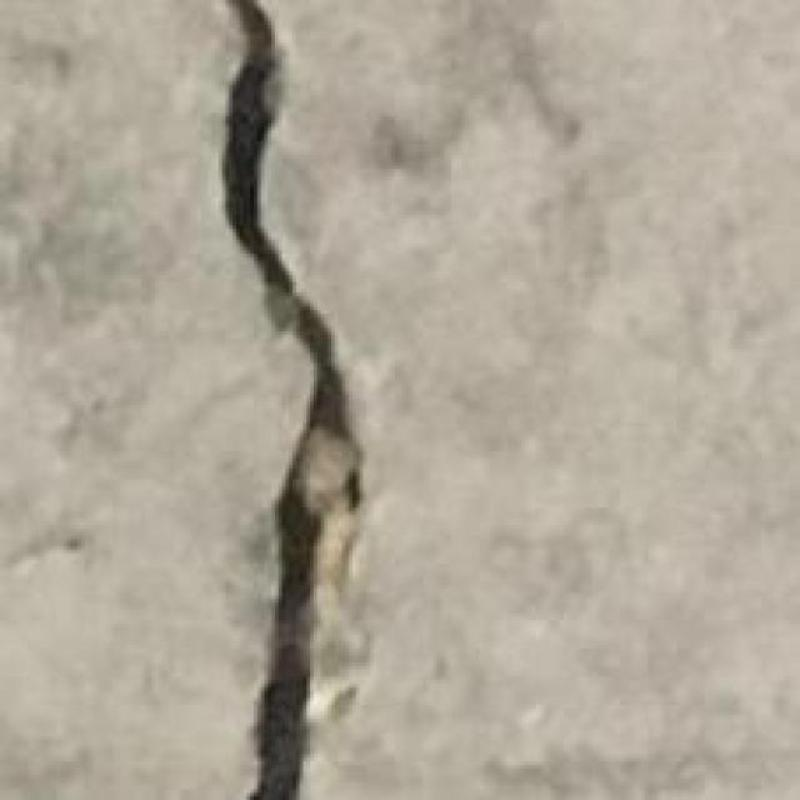pothole: (221, 0, 366, 799)
